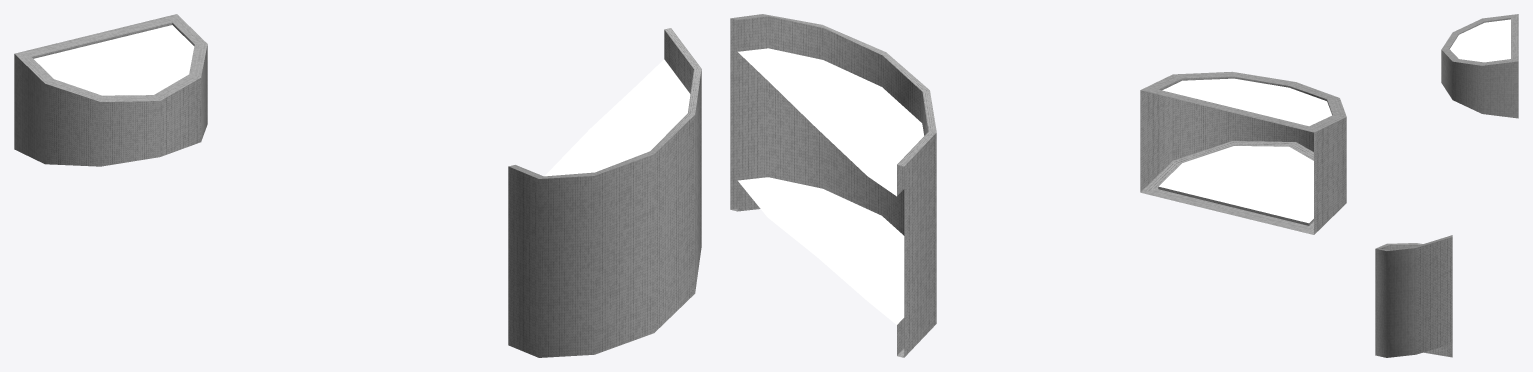
The model's file is Hallway Wall Lights 1.fbx.
The picture shows the model from 3 angles, left to right: view 1: azimuth 30°, elevation 25°; view 2: azimuth 150°, elevation 25°; view 3: azimuth 270°, elevation 25°; orthographic projection. The views are drawn at different scales.
Parts seen in each view (by area): view 1: Hallway Light 1, Hallway Light 2; view 2: Hallway Light 1, Hallway Light 2; view 3: Hallway Light 1, Hallway Light 2.
Part boxes in pixels (<box>): Hallway Light 1: <box>508,28,701,357</box>; Hallway Light 2: <box>14,14,207,166</box>; Hallway Light 1: <box>730,14,936,357</box>; Hallway Light 2: <box>1140,71,1346,234</box>; Hallway Light 1: <box>1375,235,1453,357</box>; Hallway Light 2: <box>1441,14,1518,118</box>.
Bounding box in the file's own units: 703 × 400 × 243.
